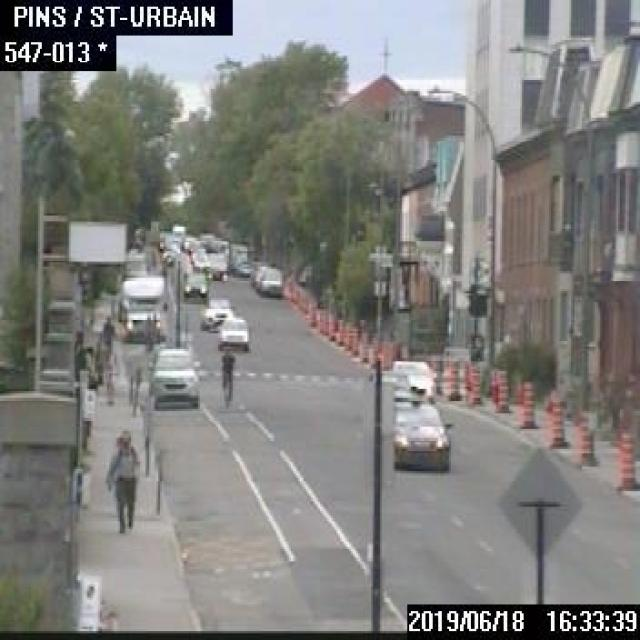construction: (615, 427, 638, 489), (572, 418, 594, 467), (548, 391, 566, 445), (520, 378, 536, 429), (491, 367, 509, 411), (465, 362, 480, 402), (447, 356, 458, 396), (358, 329, 368, 361), (368, 335, 378, 367), (380, 339, 389, 371), (350, 324, 358, 355), (343, 319, 350, 348), (307, 300, 315, 324), (335, 317, 342, 344), (320, 307, 326, 333), (328, 312, 334, 338)
cyclist: (218, 346, 233, 406), (141, 315, 154, 350)
pedestrian: (102, 427, 138, 531), (82, 344, 102, 389), (98, 311, 115, 351)
vehicle: (391, 400, 449, 469), (147, 347, 201, 409), (121, 274, 166, 341), (388, 356, 437, 402), (199, 293, 232, 331), (215, 316, 248, 350), (183, 268, 206, 302), (258, 265, 282, 296), (204, 252, 228, 278), (232, 254, 252, 276), (192, 253, 209, 270), (253, 264, 260, 290)
